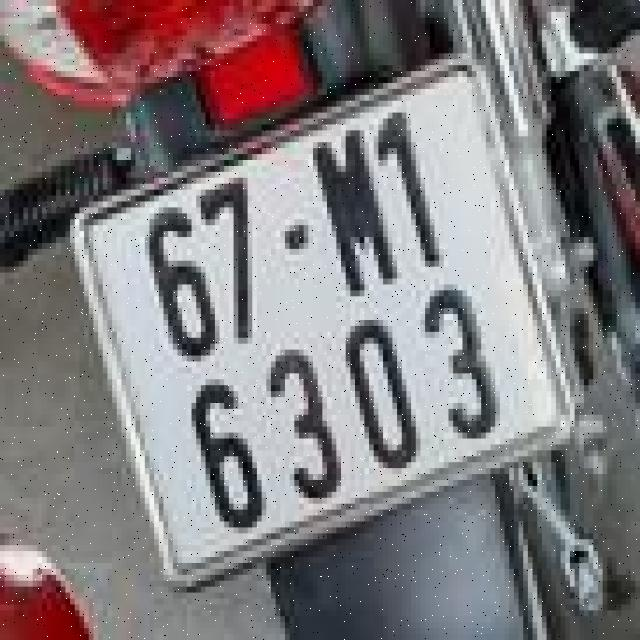0: (328, 298, 435, 485)
1: (365, 93, 460, 286)
3: (411, 271, 521, 458), (254, 332, 356, 508)
6: (180, 370, 281, 542), (135, 194, 227, 379)
7: (189, 165, 275, 357)
M: (299, 117, 411, 316)
